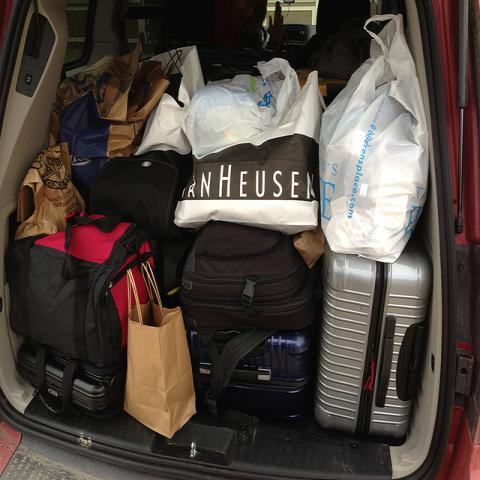car: (0, 0, 480, 474)
